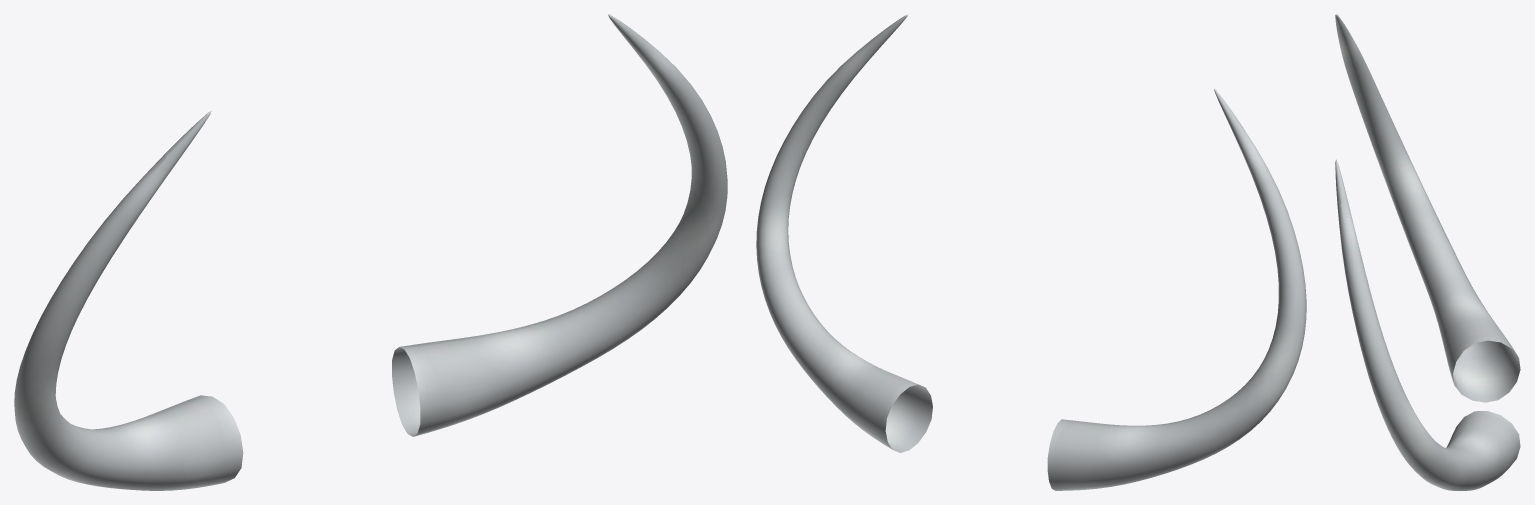
File: minotaurhorns.glb
3 views of the same model, side by side, from view 1: azimuth 30°, elevation 25°; view 2: azimuth 150°, elevation 25°; view 3: azimuth 270°, elevation 25° (orthographic). The views are drawn at different scales.
Visible parts, largest first — view 1: minotaurhorns; view 2: minotaurhorns; view 3: minotaurhorns.
Part boxes in pixels (box(x1,y1,x2,y2)): minotaurhorns: box(14, 14, 727, 490); minotaurhorns: box(756, 14, 1306, 490); minotaurhorns: box(1335, 14, 1520, 490).
Bounding box in the file's own units: 0.4259 × 0.2718 × 0.1296.
Materials: 1 (1 with a texture image).
